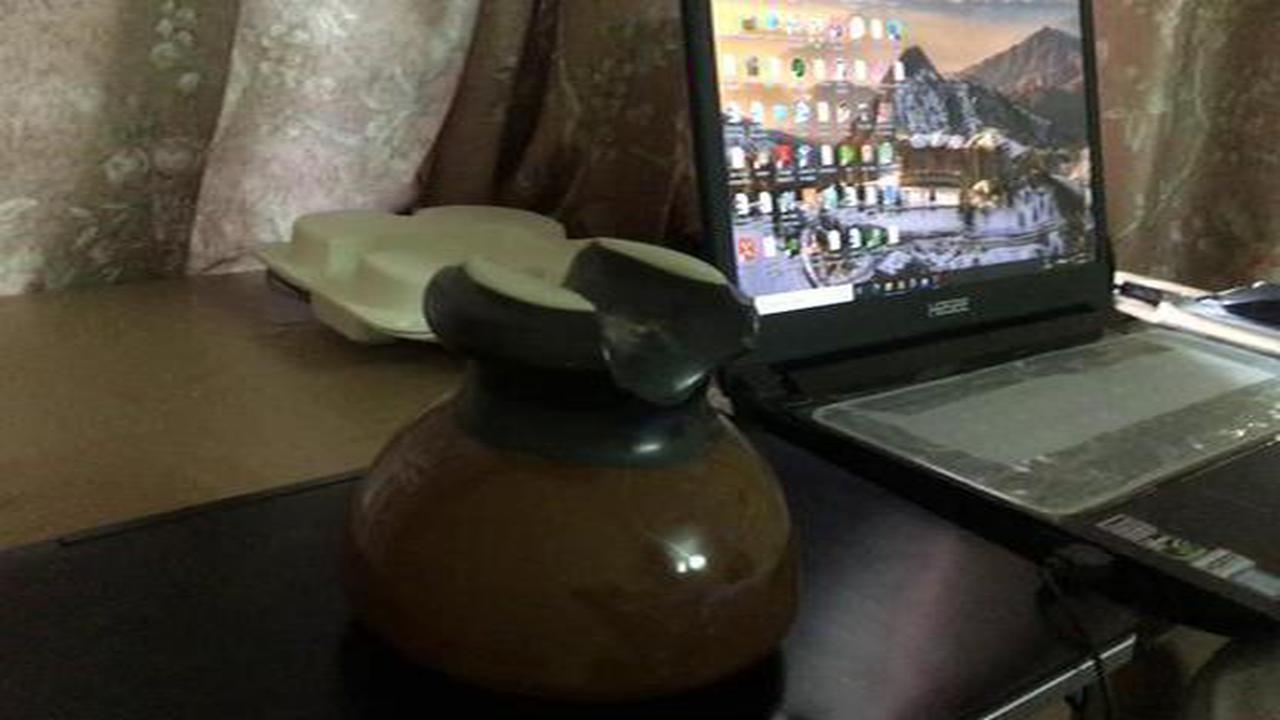insulator_pin: (321, 224, 825, 705)
